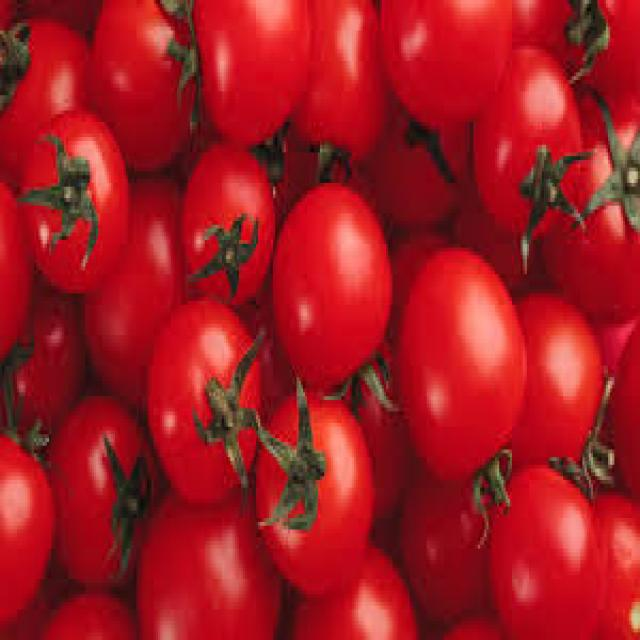raddish: (254, 385, 375, 594)
tomato: (141, 293, 264, 522), (22, 109, 138, 303)
